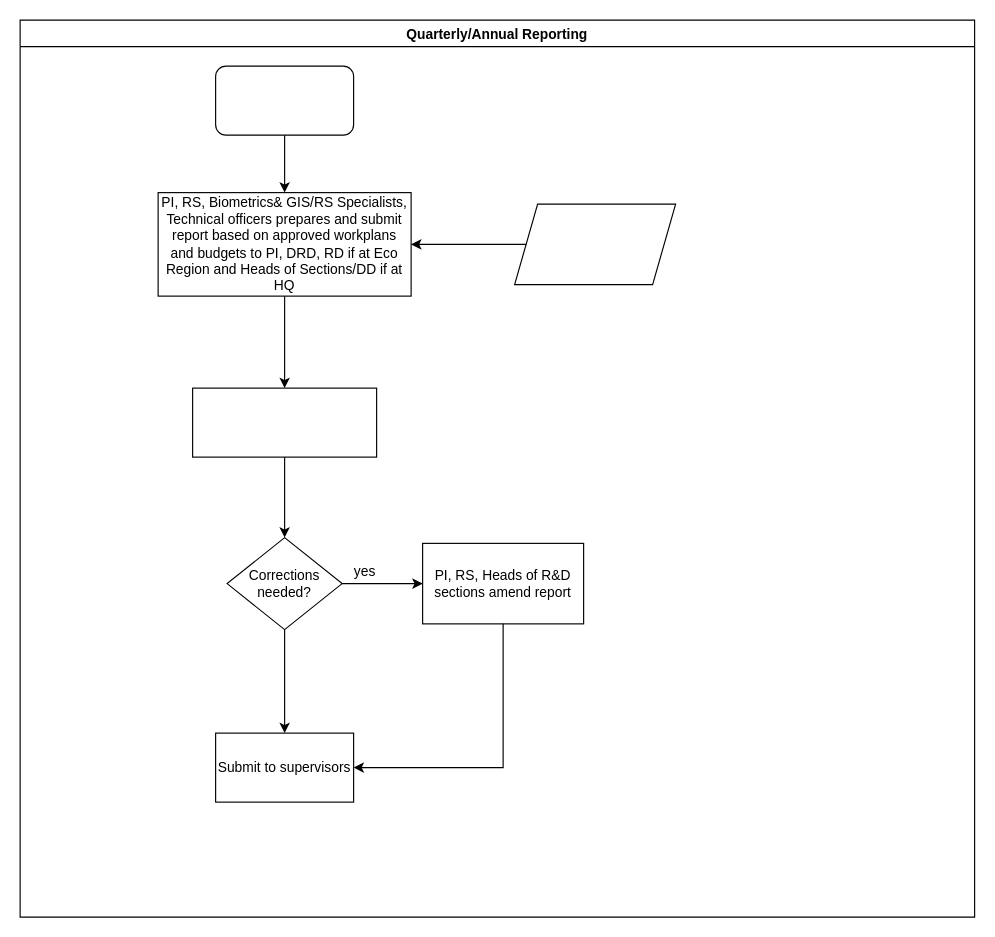
This 995x937 diagram has some shape labels left out. Each missing label, with the centre of its shape:
DD/DRD/RD review report and provide feedback to PI, RS, and Technical Officers: the point at 284,422
Start: the point at 284,100
Type of report (Quarterly/Annual): the point at 594,244
